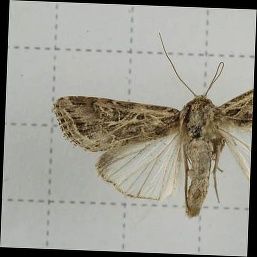Spodoptera litura: (52, 32, 252, 219)
